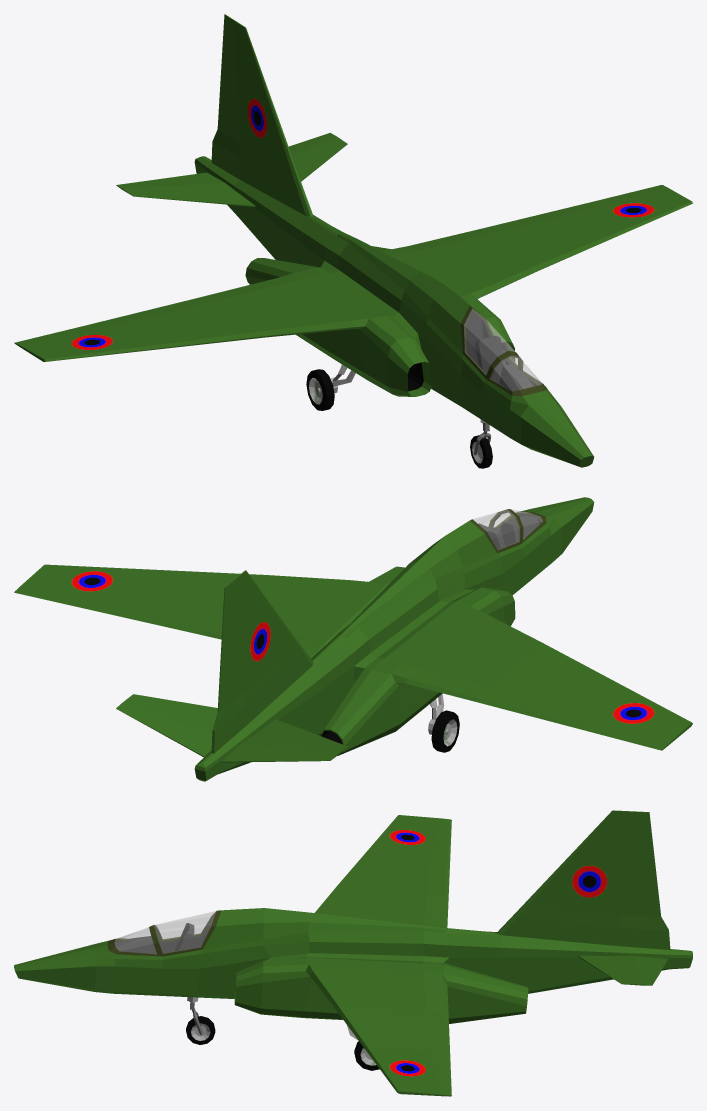
3 renders of one model, top to bottom at view 1: azimuth 30°, elevation 25°; view 2: azimuth 150°, elevation 25°; view 3: azimuth 270°, elevation 25°, orthographic. The views are drawn at different scales.
Parts seen in each view (by area): view 1: Circle.032, Circle.039, Circle.038, Circle.033, Landing gear_RR.002, Circle.034, Circle.036, Landing gear_F.002, Circle.042; view 2: Circle.032, Circle.045, Circle.033, Circle.036, Circle.042, Circle.039, Circle.035, Circle.034, Landing gear_RR.002, Circle.037, Circle.043, Circle.038; view 3: Circle.032, Circle.033, Circle.039, Circle.038, Circle.042, Circle.036, Landing gear_F.002, Circle.044, Circle.035, Circle.045, Circle.043, Circle.037.
Boxes of the visible parts, x1=… form: Circle.032: x1=14, y1=14, x2=692, y2=467; Circle.039: x1=460, y1=306, x2=519, y2=379; Circle.038: x1=487, y1=353, x2=546, y2=396; Circle.033: x1=217, y1=59, x2=239, y2=143; Landing gear_RR.002: x1=306, y1=364, x2=355, y2=410; Circle.034: x1=116, y1=173, x2=221, y2=189; Circle.036: x1=110, y1=296, x2=214, y2=324; Landing gear_F.002: x1=470, y1=419, x2=492, y2=468; Circle.042: x1=479, y1=207, x2=579, y2=233; Circle.032: x1=14, y1=497, x2=692, y2=781; Circle.045: x1=116, y1=703, x2=212, y2=756; Circle.033: x1=217, y1=624, x2=242, y2=711; Circle.036: x1=477, y1=688, x2=579, y2=726; Circle.042: x1=108, y1=602, x2=214, y2=635; Circle.039: x1=470, y1=509, x2=521, y2=553; Circle.035: x1=406, y1=667, x2=488, y2=701; Circle.034: x1=225, y1=744, x2=336, y2=762; Landing gear_RR.002: x1=428, y1=694, x2=459, y2=752; Circle.037: x1=569, y1=714, x2=656, y2=747; Circle.043: x1=25, y1=588, x2=118, y2=613; Circle.038: x1=492, y1=509, x2=546, y2=543; Circle.032: x1=14, y1=810, x2=692, y2=1096; Circle.033: x1=620, y1=852, x2=661, y2=916; Circle.039: x1=151, y1=910, x2=221, y2=956; Circle.038: x1=107, y1=926, x2=160, y2=956; Circle.042: x1=427, y1=1010, x2=450, y2=1055; Circle.036: x1=427, y1=856, x2=450, y2=897; Landing gear_F.002: x1=186, y1=997, x2=215, y2=1044; Circle.044: x1=424, y1=978, x2=448, y2=1014; Circle.035: x1=424, y1=893, x2=448, y2=927; Circle.045: x1=636, y1=957, x2=667, y2=985; Circle.043: x1=431, y1=1052, x2=451, y2=1090; Circle.037: x1=431, y1=823, x2=451, y2=858.
Size of the model in its own units: 1138 by 448 by 1182.
